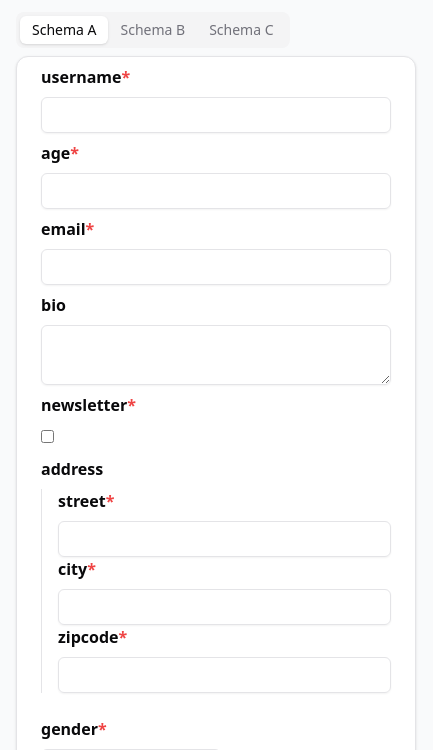
Test case: Schema B › Form Happy Path - Schema B › Verify fields integrity
Click the tab "Schema B".
click(154, 30)  # box [109, 16, 198, 44]
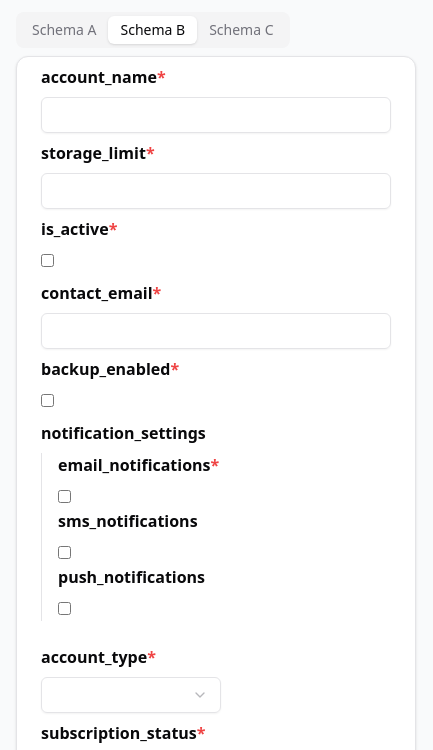
Click the dropdown.
click(131, 695)  # box [41, 677, 221, 713]
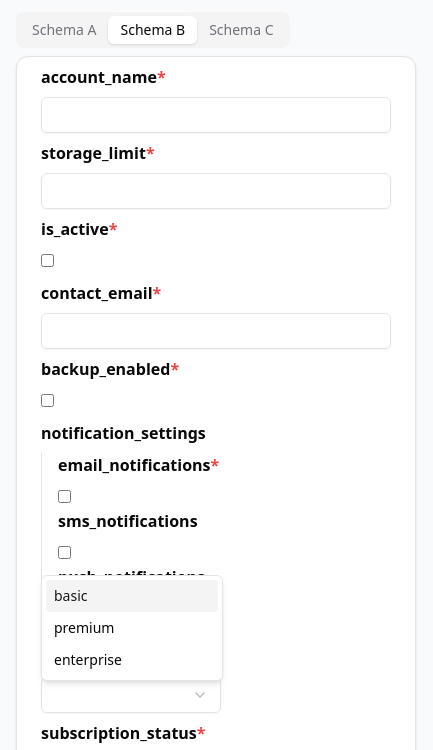
expect the text "basic" is shown: met, box [54, 586, 88, 606]
expect the text "premium" is shown: met, box [54, 618, 114, 638]
expect the text "enterprise" is shown: met, box [54, 650, 122, 670]
